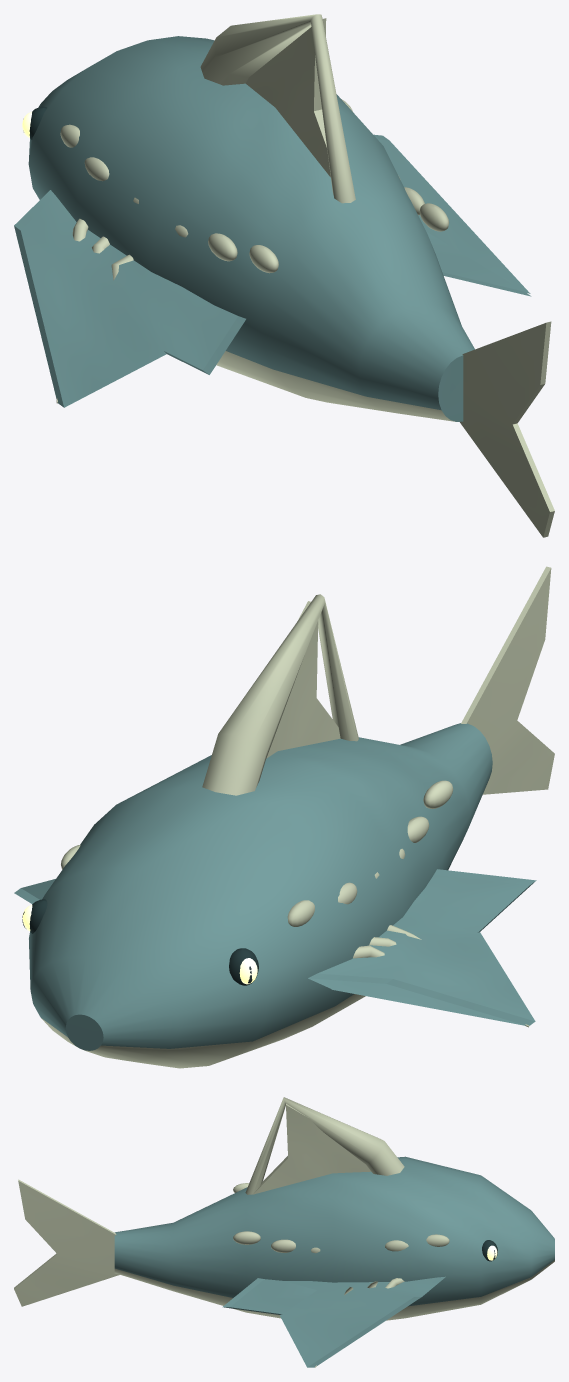
File: lake_prey.glb
3 views of the same model, one above another, from view 1: azimuth 30°, elevation 25°; view 2: azimuth 150°, elevation 25°; view 3: azimuth 270°, elevation 25° (orthographic). The views are drawn at different scales.
Visible parts, largest first — view 1: Body, Walk00, Walk01; view 2: Body, Walk00; view 3: Body, Walk01.
Boxes of the visible parts, x1,y1,x2,y2 form: Body: [22, 14, 554, 537]; Walk00: [14, 190, 245, 407]; Walk01: [373, 134, 531, 296]; Body: [22, 566, 554, 1068]; Walk00: [308, 869, 536, 1027]; Body: [14, 1097, 554, 1320]; Walk01: [222, 1276, 445, 1367].
Bounding box in the file's own units: 1.12 × 0.8771 × 1.93.
2 materials, 1 textured.
